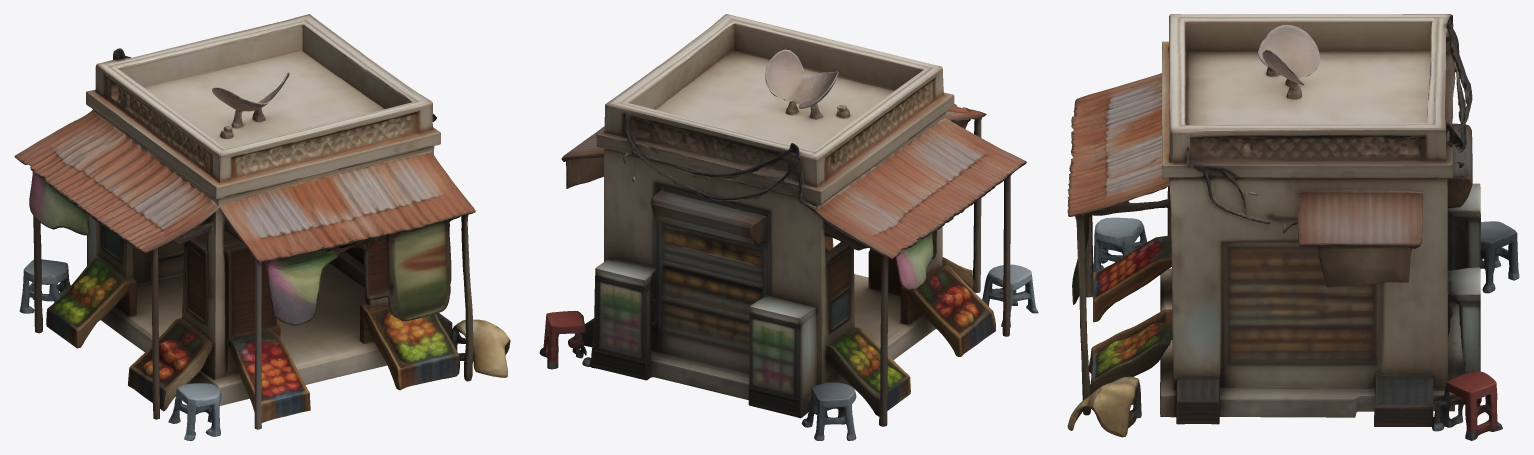
The model's file is dukkan_shop.glb.
3 views of the same model, side by side, from view 1: azimuth 30°, elevation 25°; view 2: azimuth 150°, elevation 25°; view 3: azimuth 270°, elevation 25° (orthographic). The views are drawn at different scales.
Visible parts, largest first — view 1: world; view 2: world; view 3: world.
Boxes of the visible parts, x1,y1,x2,y2 form: world: [14, 14, 510, 440]; world: [539, 14, 1038, 440]; world: [1067, 14, 1519, 440].
Bounding box in the file's own units: 0.9949 × 0.7498 × 0.9947.
Materials: 1 (1 with a texture image).
